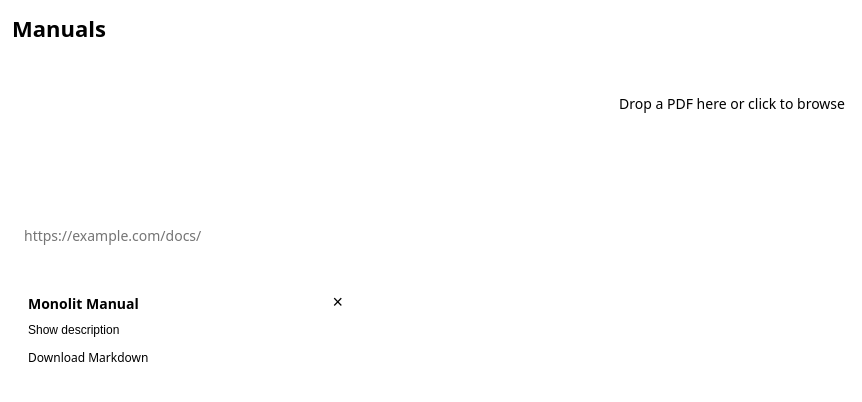
Test case: ManualsPage › hides summary by default and shows it on toggle
Check: the heading "Monolit Manual" is shown, box [28, 292, 139, 314]
Check: the text "versatile 8-slider" is not shown
Click the button "Show description" at (74, 330), box [28, 322, 119, 336]
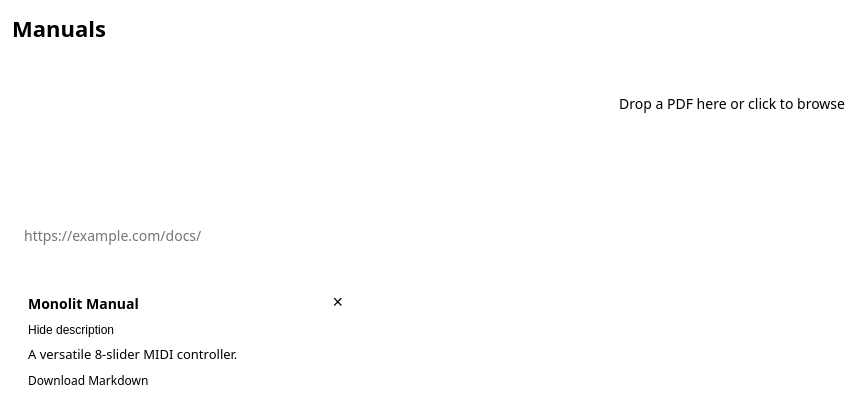
Check: the text "A versatile 8-slider MIDI controller." is shown, box [28, 344, 237, 362]
Click the button "Hide description" at (71, 330), box [28, 322, 114, 336]
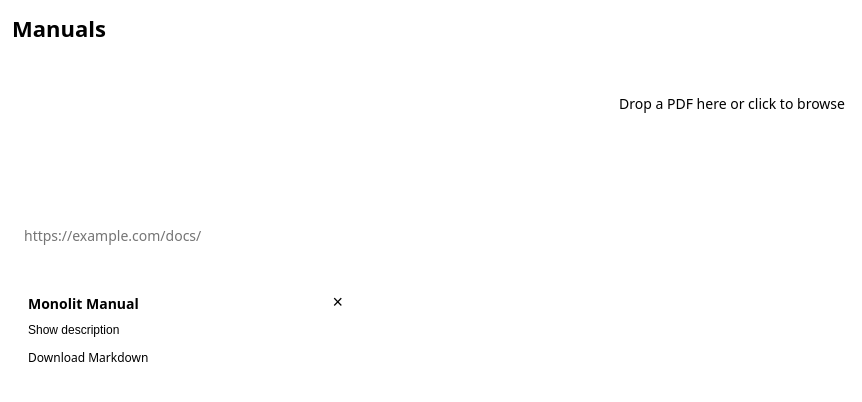
Check: the text "versatile 8-slider" is gone
